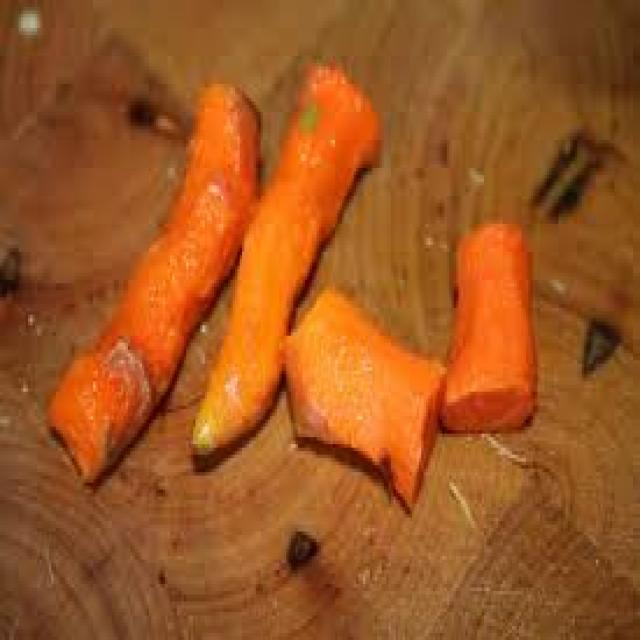Stale_Carrot: (44, 81, 266, 477), (201, 48, 387, 439)
